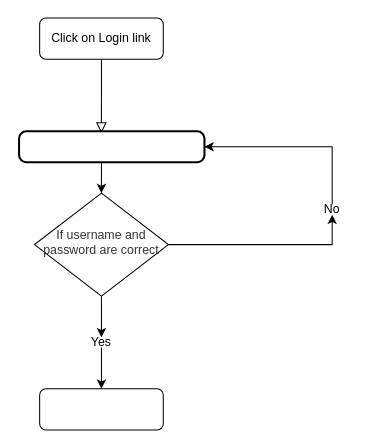
Some shapes in this 380 by 448 pixel diagram are drawn without their labels. Here are the shapes that lost their labels. From the top down, the centre of each, then its label:
(111,146): Insert username and password
(101,409): Redirect to his profile page
